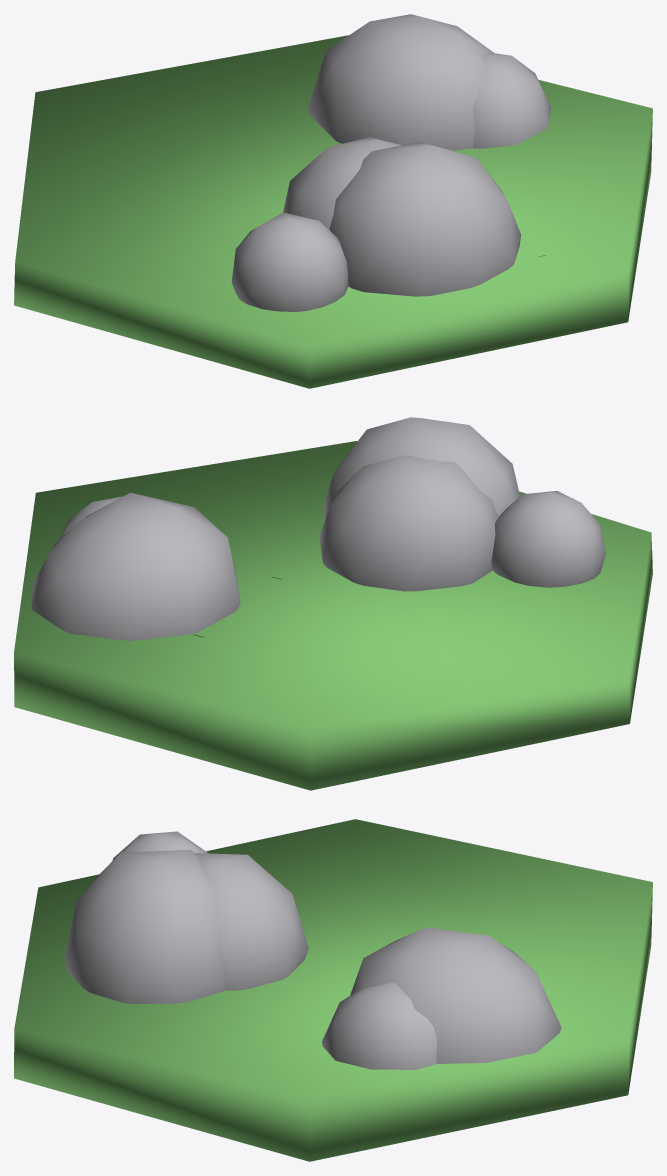
File: grassland_v1.glb
3 renders of one model, top to bottom at view 1: azimuth 30°, elevation 25°; view 2: azimuth 150°, elevation 25°; view 3: azimuth 270°, elevation 25°, orthographic.
Parts seen in each view (by area): view 1: grassland_tile_1.001, rock_Icosphere.014, rock_Icosphere.015, rock_Icosphere.016, rock_Icosphere.012, rock_Icosphere.013; view 2: grassland_tile_1.001, rock_Icosphere.015, rock_Icosphere.013, rock_Icosphere.016, rock_Icosphere.014; view 3: grassland_tile_1.001, rock_Icosphere.014, rock_Icosphere.015, rock_Icosphere.013, rock_Icosphere.012, rock_Icosphere.016.
Boxes of the visible parts, box(x1,y1,x2,y2) form: grassland_tile_1.001: box(14, 35, 652, 388); rock_Icosphere.014: box(329, 142, 520, 296); rock_Icosphere.015: box(308, 14, 494, 150); rock_Icosphere.016: box(231, 212, 348, 311); rock_Icosphere.012: box(472, 53, 551, 148); rock_Icosphere.013: box(283, 137, 401, 230); grassland_tile_1.001: box(14, 441, 652, 790); rock_Icosphere.015: box(31, 492, 240, 640); rock_Icosphere.013: box(319, 455, 498, 591); rock_Icosphere.016: box(491, 491, 605, 587); rock_Icosphere.014: box(323, 417, 519, 519); grassland_tile_1.001: box(14, 819, 652, 1161); rock_Icosphere.014: box(64, 849, 225, 1003); rock_Icosphere.015: box(350, 927, 561, 1063); rock_Icosphere.013: box(194, 853, 308, 990); rock_Icosphere.012: box(322, 982, 437, 1069); rock_Icosphere.016: box(112, 831, 208, 860).
Size of the model in its own units: 1 by 0.2966 by 0.8989.
